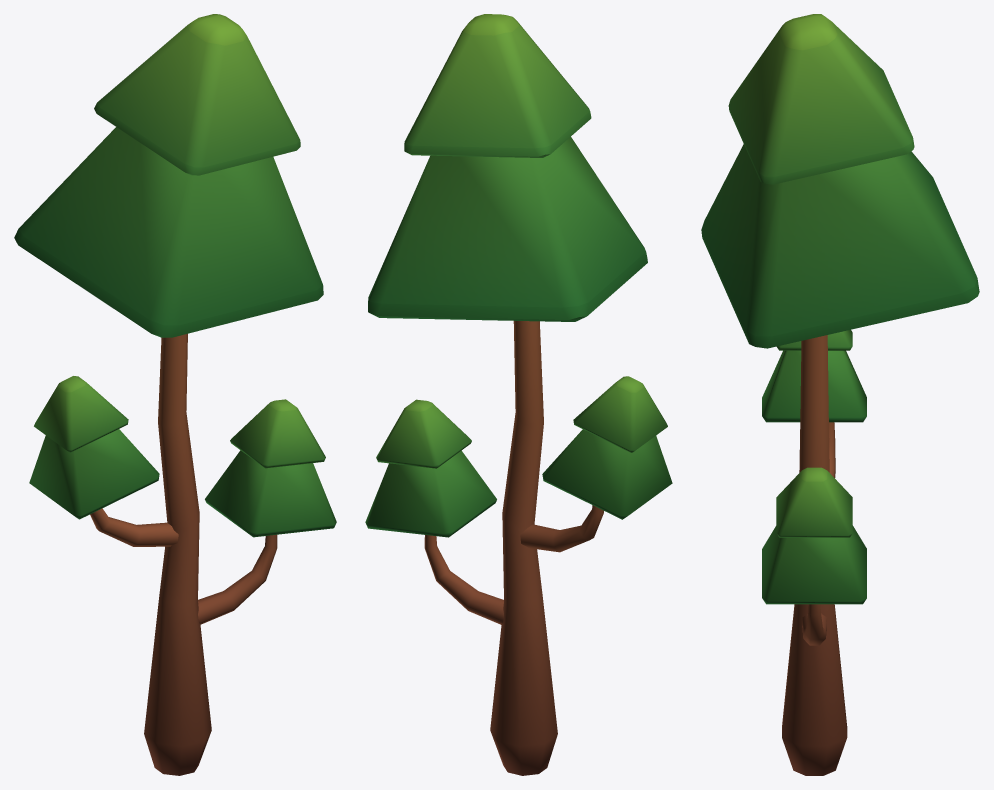
Rendered from tree-pine-tall.glb.
The picture shows the model from 3 angles, left to right: view 1: azimuth 30°, elevation 25°; view 2: azimuth 150°, elevation 25°; view 3: azimuth 270°, elevation 25°; orthographic projection. The views are drawn at different scales.
Parts seen in each view (by area): view 1: tree.pine.tall; view 2: tree.pine.tall; view 3: tree.pine.tall.
Boxes of the visible parts, bbox=[...] form: tree.pine.tall: bbox=[14, 14, 336, 775]; tree.pine.tall: bbox=[365, 14, 672, 775]; tree.pine.tall: bbox=[701, 14, 979, 775].
Bounding box in the file's own units: 2.57 × 6.94 × 2.27.
